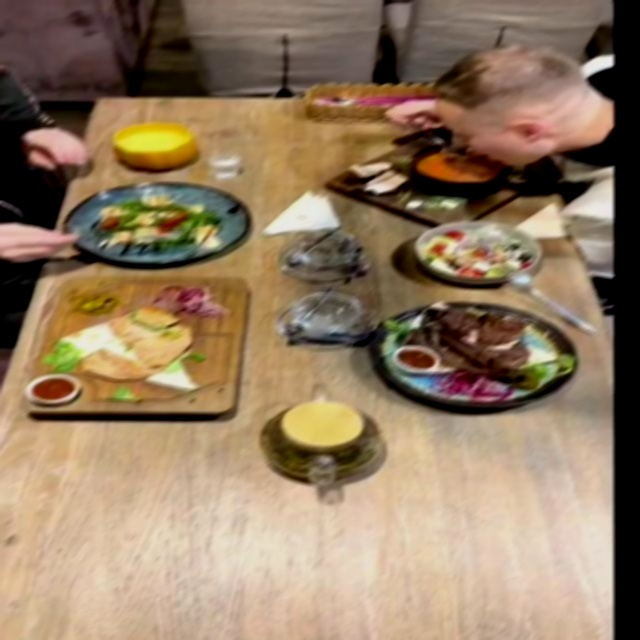meat: (19, 279, 249, 418), (367, 300, 579, 408)
salad: (61, 182, 248, 266), (414, 220, 544, 285)
soup: (325, 136, 555, 226), (111, 121, 197, 171)
tea: (247, 377, 397, 510)
